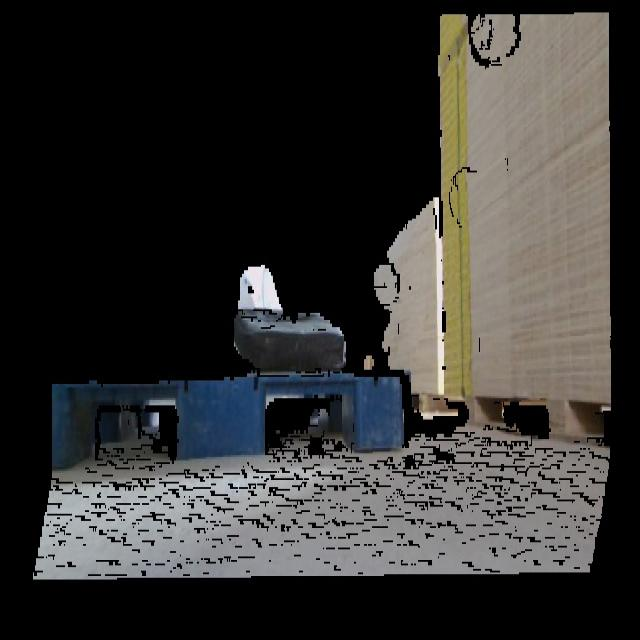block: (178, 377, 264, 460), (352, 373, 409, 457)
front: (52, 371, 414, 478)
